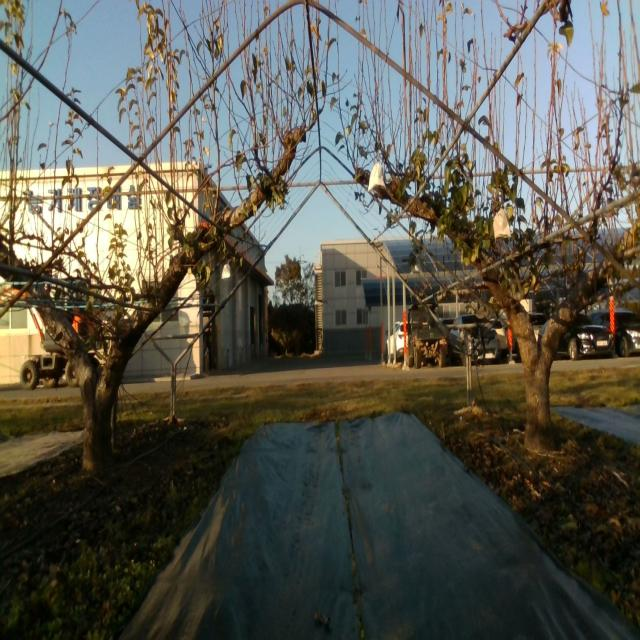pearbags: (494, 204, 511, 244), (367, 161, 386, 192)
